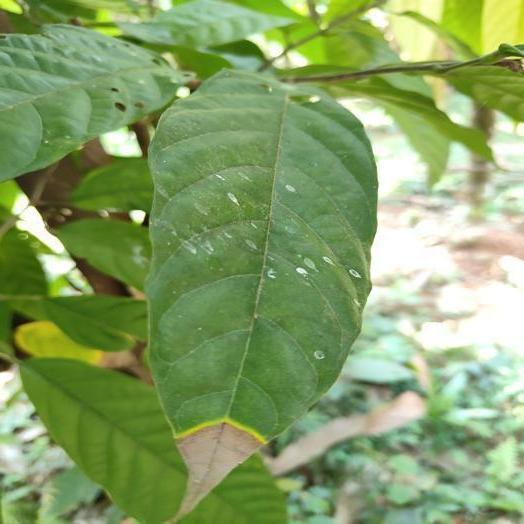Potassium: (146, 70, 376, 512)
